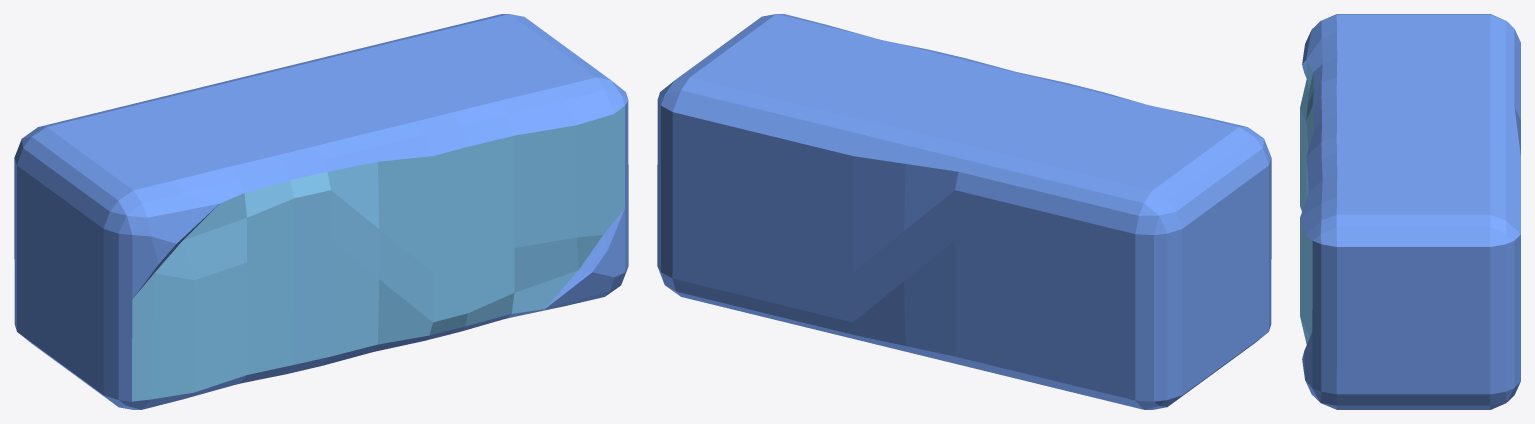
Rendered from bigbluebutton 1.fbx.
The picture shows the model from 3 angles, left to right: view 1: azimuth 30°, elevation 25°; view 2: azimuth 150°, elevation 25°; view 3: azimuth 270°, elevation 25°; orthographic projection. The views are drawn at different scales.
Visible parts, largest first — view 1: pCube3; view 2: pCube3; view 3: pCube3.
Part boxes in pixels (<box>): pCube3: <box>14,14,628,409</box>; pCube3: <box>657,14,1271,409</box>; pCube3: <box>1300,14,1520,409</box>.
Bounding box in the file's own units: 2.49 × 1 × 1.03.
